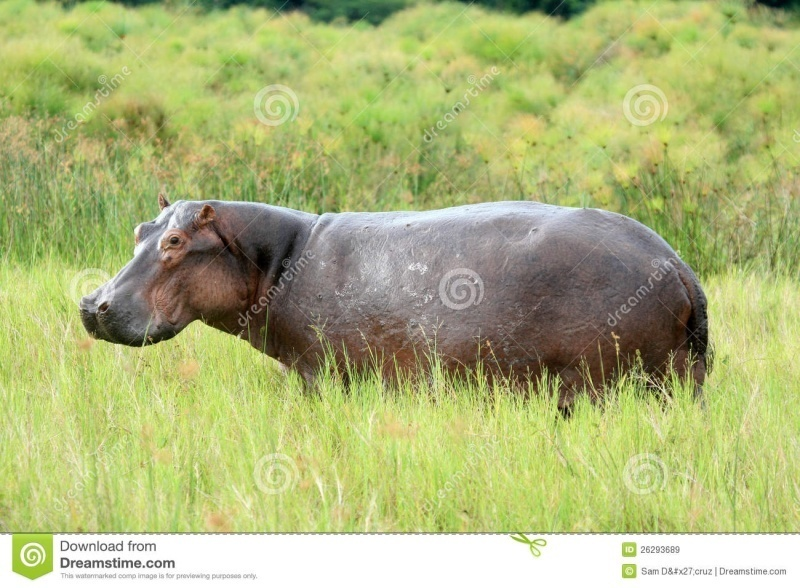hipopotamo: (72, 187, 720, 440)
